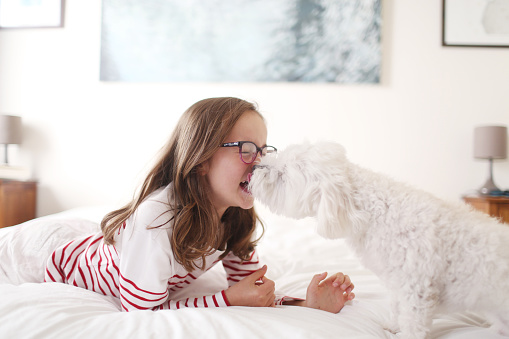deitado: (47, 79, 375, 329)
